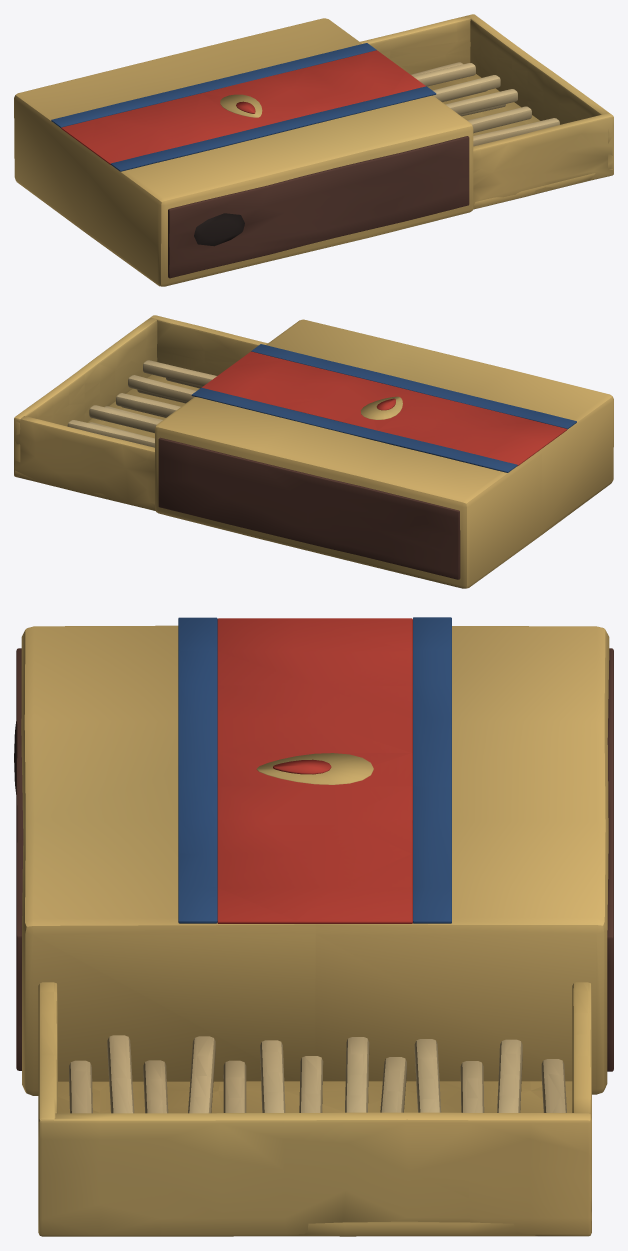
File: ember_matchbox.glb
3 views of the same model, one above another, from view 1: azimuth 30°, elevation 25°; view 2: azimuth 150°, elevation 25°; view 3: azimuth 270°, elevation 25° (orthographic). The views are drawn at different scales.
Parts seen in each view (by area): view 1: ember_matchbox; view 2: ember_matchbox; view 3: ember_matchbox.
Boxes of the visible parts, x1,y1,x2,y2 form: ember_matchbox: (14, 14, 613, 286); ember_matchbox: (14, 315, 613, 588); ember_matchbox: (14, 617, 613, 1236).
Bounding box in the file's own units: 32.08 × 6.27 × 18.43.
